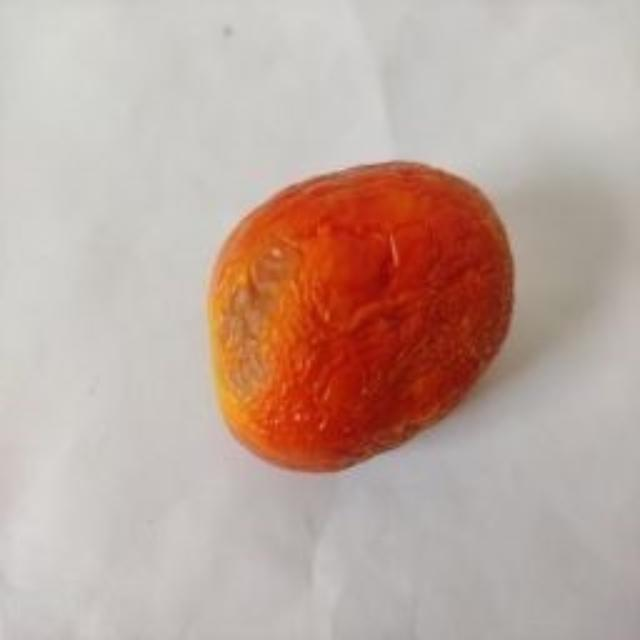defect: (201, 157, 520, 477)
